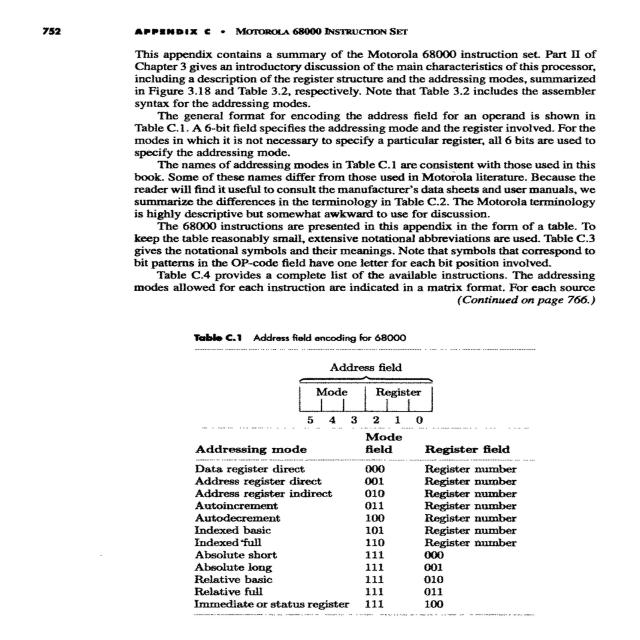diagram: (145, 306, 640, 640)
